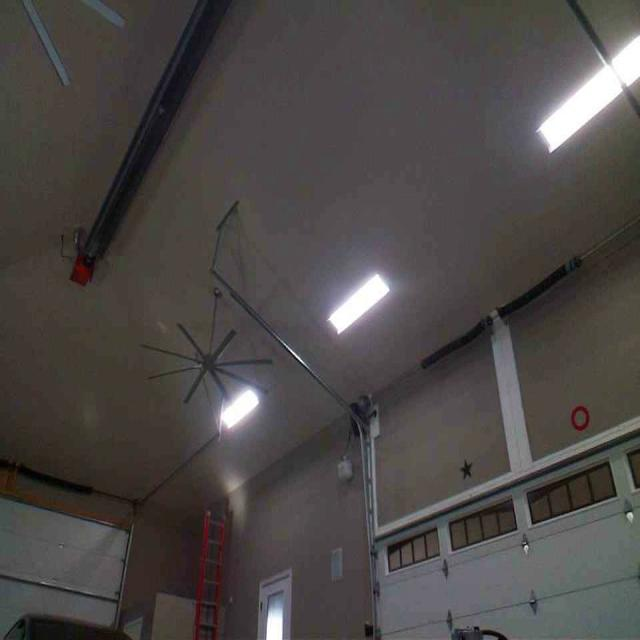ring_red: (570, 403, 590, 431)
star_black: (458, 456, 471, 479)
